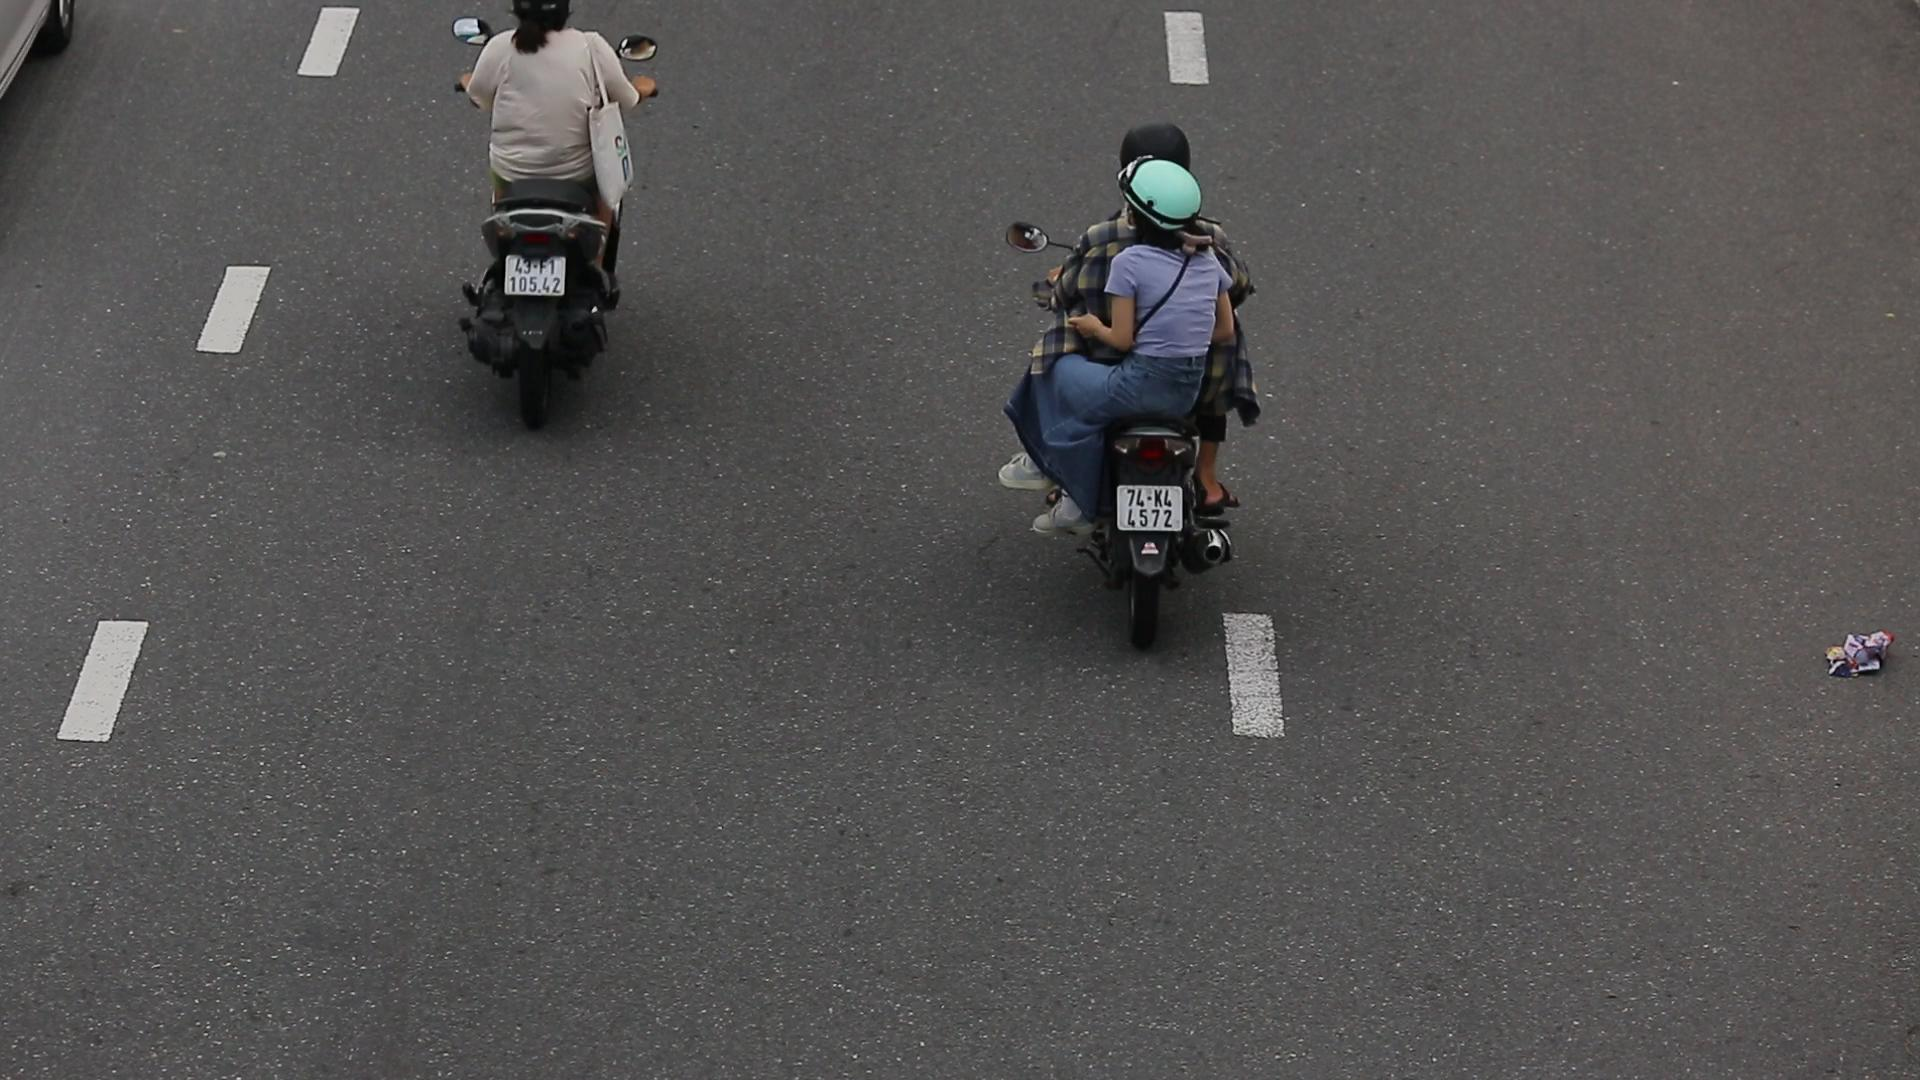motobike: (982, 109, 1276, 649)
